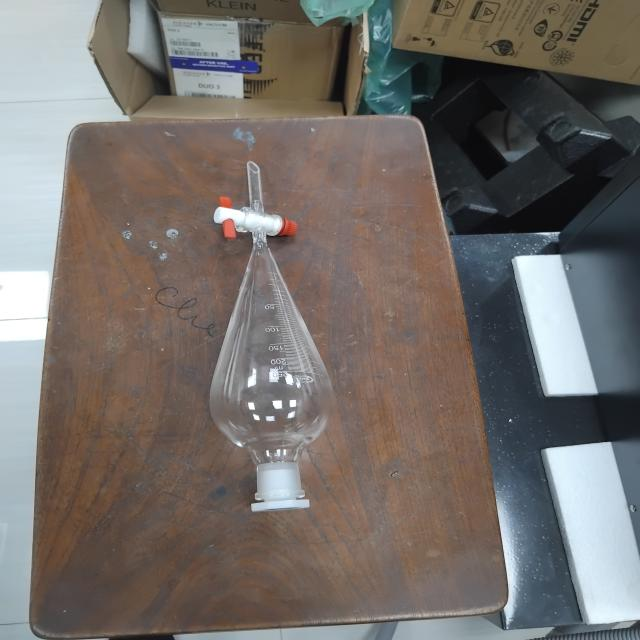Separating_Funnel: (171, 94, 387, 561)
